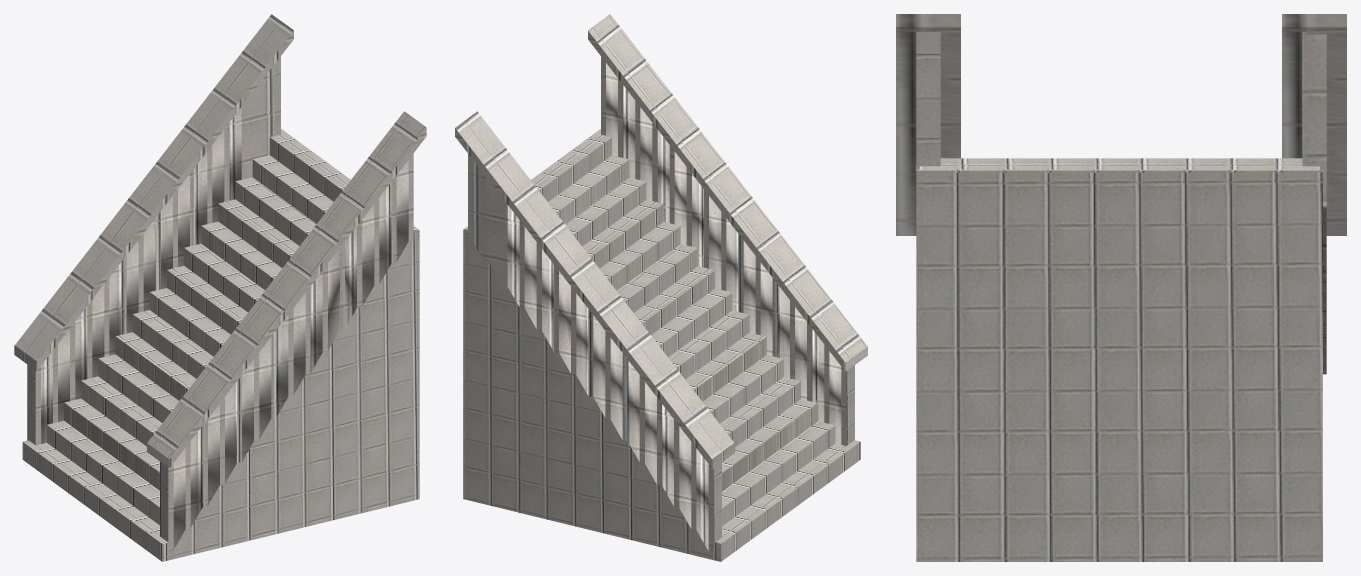
Rendered from gradasabajomonoblock.fbx.
3 renders of one model, left to right at view 1: azimuth 30°, elevation 25°; view 2: azimuth 150°, elevation 25°; view 3: azimuth 270°, elevation 25°, orthographic. The views are drawn at different scales.
Parts seen in each view (by area): view 1: stair_big_02, railing_stair_03_R.001, railing_stair_03_L.001; view 2: stair_big_02, railing_stair_03_L.001, railing_stair_03_R.001; view 3: stair_big_02, railing_stair_03_L.001, railing_stair_03_R.001.
Part boxes in pixels (x1=…): stair_big_02: x1=22, y1=129, x2=419, y2=561; railing_stair_03_R.001: x1=147, y1=111, x2=426, y2=551; railing_stair_03_L.001: x1=14, y1=14, x2=293, y2=445; stair_big_02: x1=463, y1=129, x2=860, y2=561; railing_stair_03_L.001: x1=455, y1=111, x2=734, y2=552; railing_stair_03_R.001: x1=588, y1=14, x2=867, y2=445; stair_big_02: x1=916, y1=158, x2=1322, y2=561; railing_stair_03_L.001: x1=1282, y1=14, x2=1346, y2=374; railing_stair_03_R.001: x1=896, y1=14, x2=960, y2=235.
Bounding box in the file's own units: 300 × 420 × 313.
